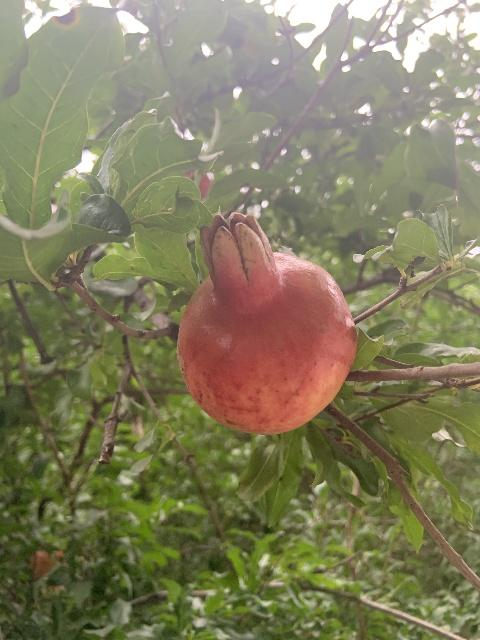ripe: (176, 211, 358, 435), (29, 550, 67, 596)
